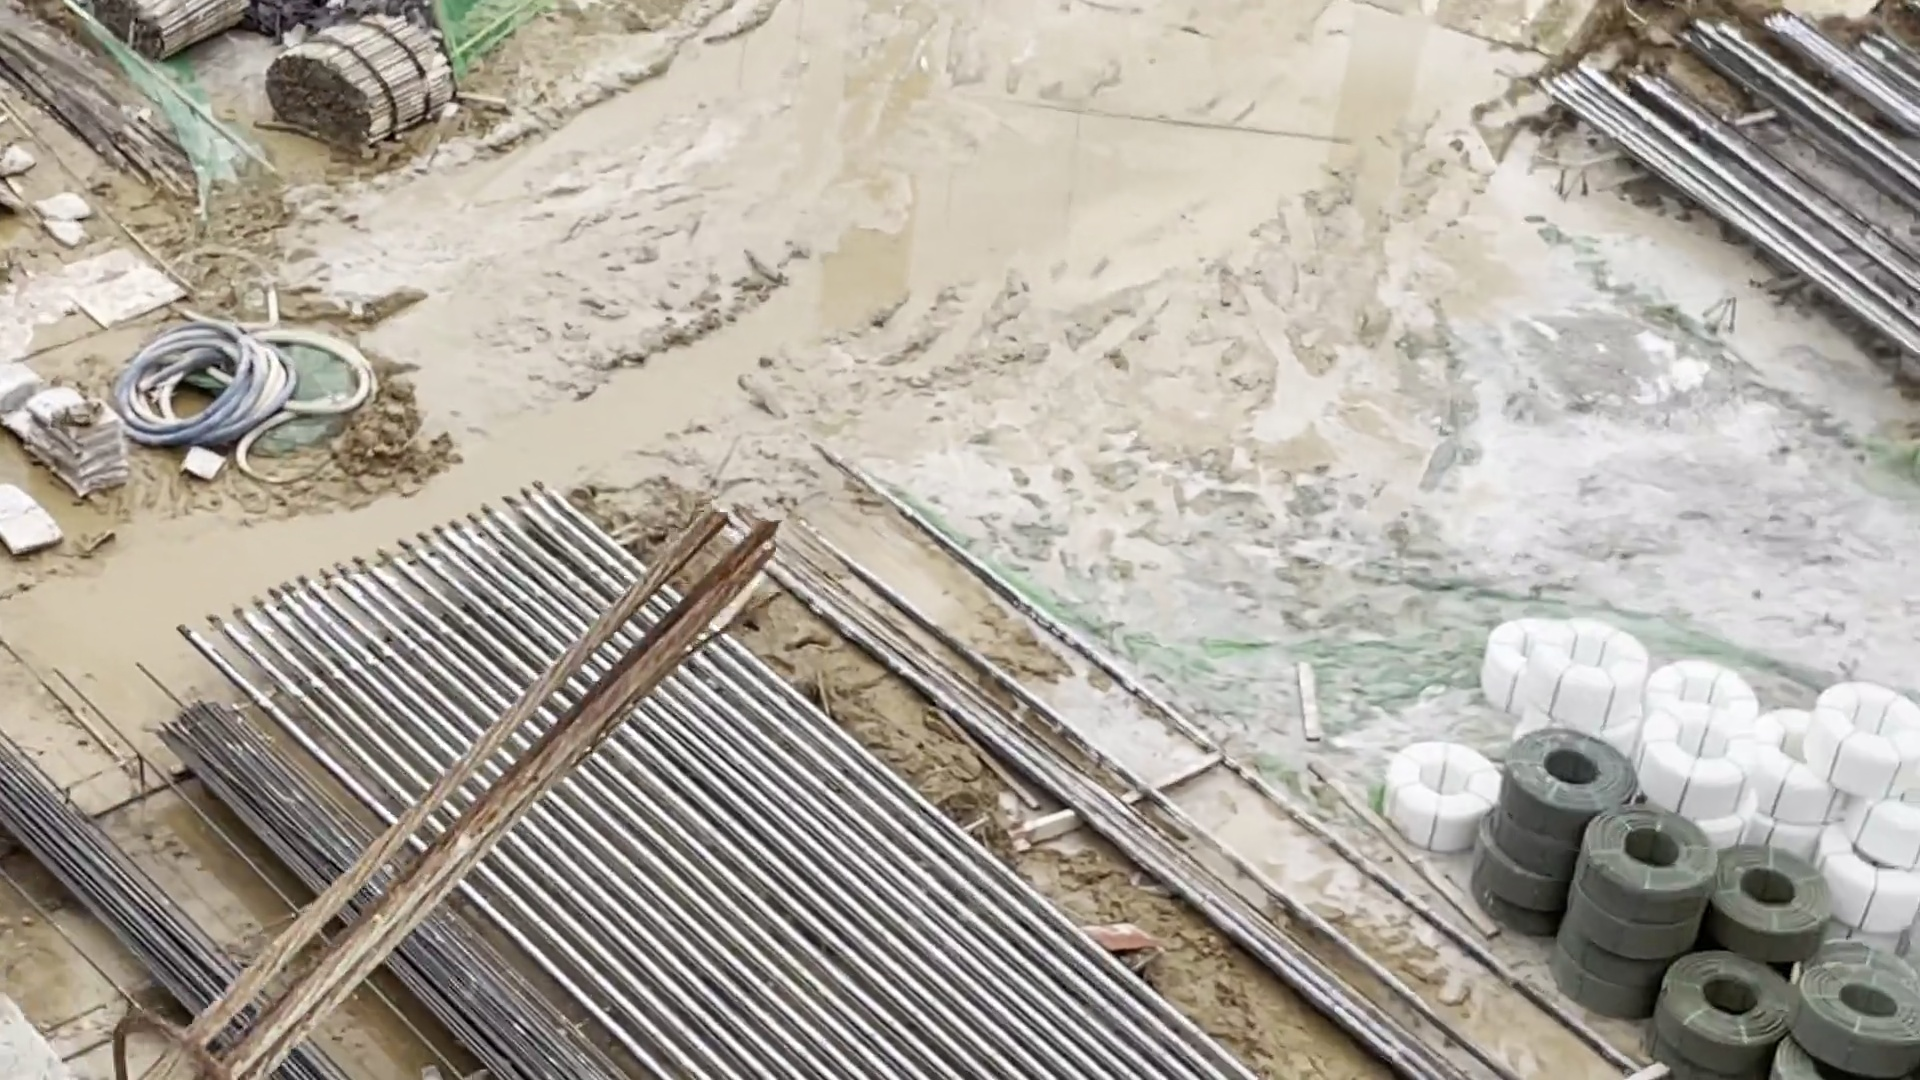rebar: (1, 699, 601, 1080), (1538, 12, 1920, 278)
